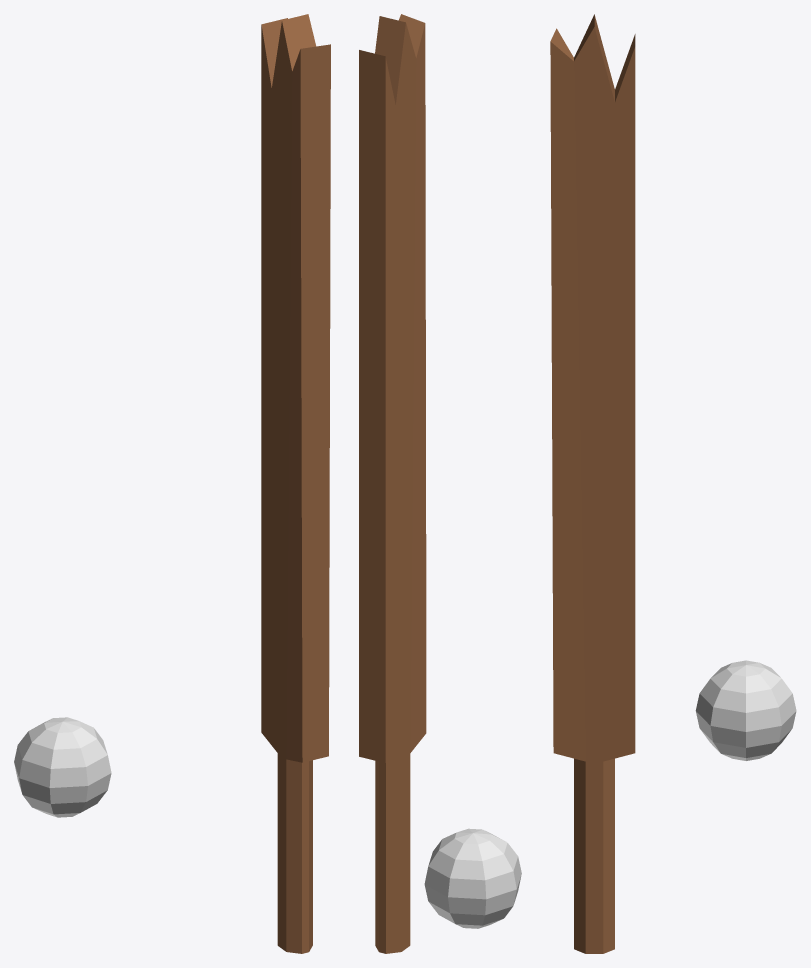
The model's file is Baseball_Assets_v1.fbx.
The picture shows the model from 3 angles, left to right: view 1: azimuth 30°, elevation 25°; view 2: azimuth 150°, elevation 25°; view 3: azimuth 270°, elevation 25°; orthographic projection.
Visible parts, largest first — view 1: Baseball_Plank_1, Baseball_Baseball_1; view 2: Baseball_Plank_1, Baseball_Baseball_1; view 3: Baseball_Plank_1, Baseball_Baseball_1.
Boxes of the visible parts, bbox=[...] form: Baseball_Plank_1: bbox=[261, 14, 330, 953]; Baseball_Baseball_1: bbox=[14, 717, 111, 817]; Baseball_Plank_1: bbox=[359, 14, 426, 953]; Baseball_Baseball_1: bbox=[424, 828, 521, 928]; Baseball_Plank_1: bbox=[550, 14, 635, 953]; Baseball_Baseball_1: bbox=[695, 660, 796, 760].
Bounding box in the file's own units: 34.08 × 141 × 34.01.
